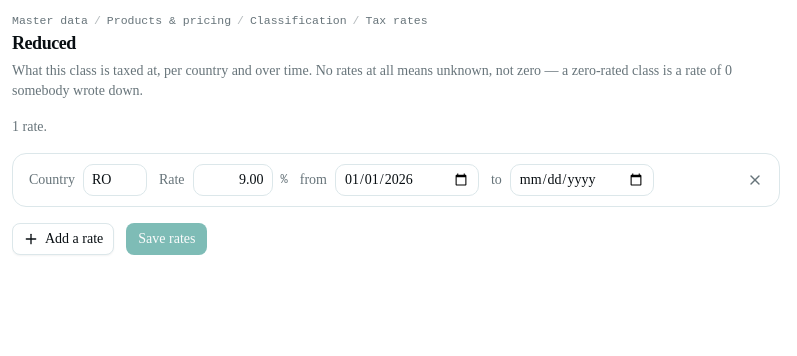
Test: <TaxRates> › lets the same country have a second rate on a different date
Check: the button "Save rates" is shown, box left=126, top=223, right=208, bottom=255
Click the button "Add a rate".
click(63, 239)  # box left=12, top=223, right=114, bottom=255
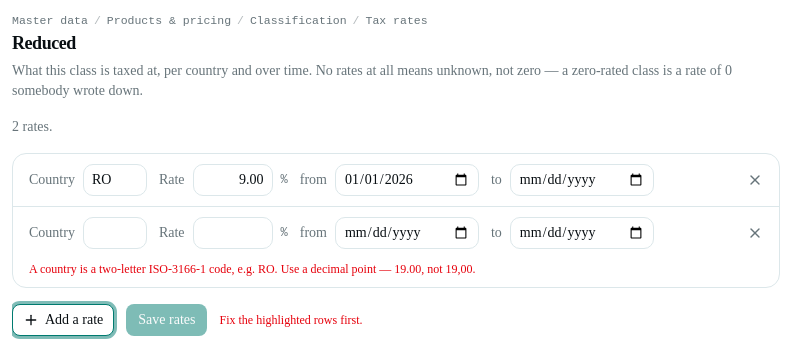
Type "RO" into the field named "Country, rate 2".
click(115, 233); type("RO")  # box left=83, top=217, right=147, bottom=249
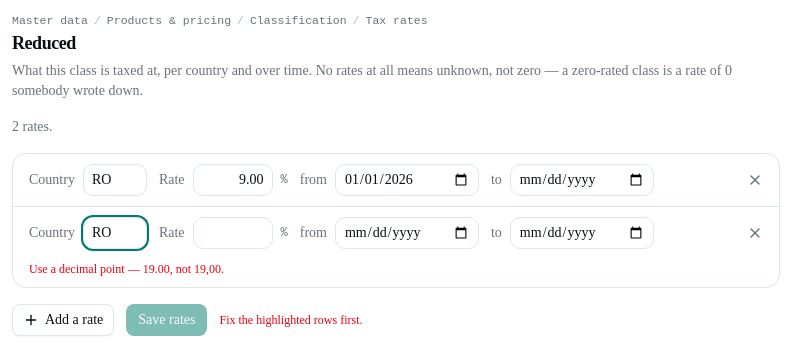
Type "11.00" into the field named "Percentage, rate 2".
click(232, 233); type("11.00")  # box left=192, top=217, right=272, bottom=249
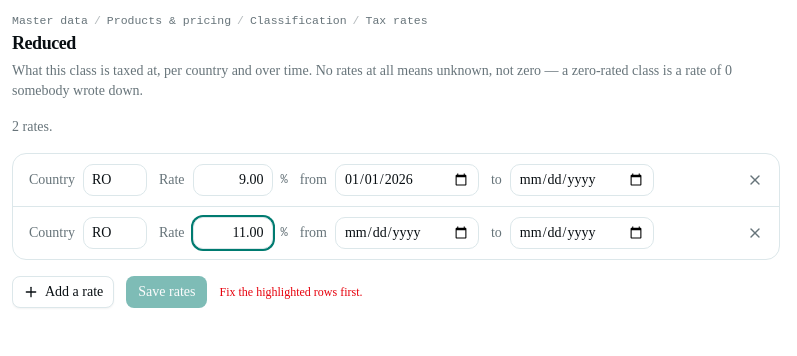
Type "2027-01-01" into the date field named "Applies from, rate 2".
click(407, 233); type("2027-01-01")  # box left=335, top=217, right=479, bottom=249
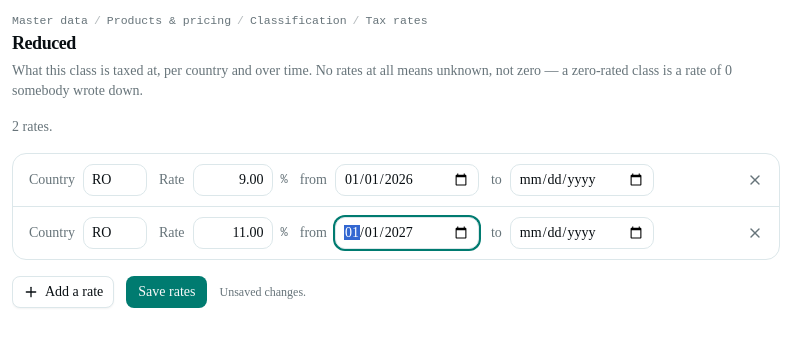
Check: the button "Save rates" is enabled, box left=126, top=276, right=208, bottom=308
